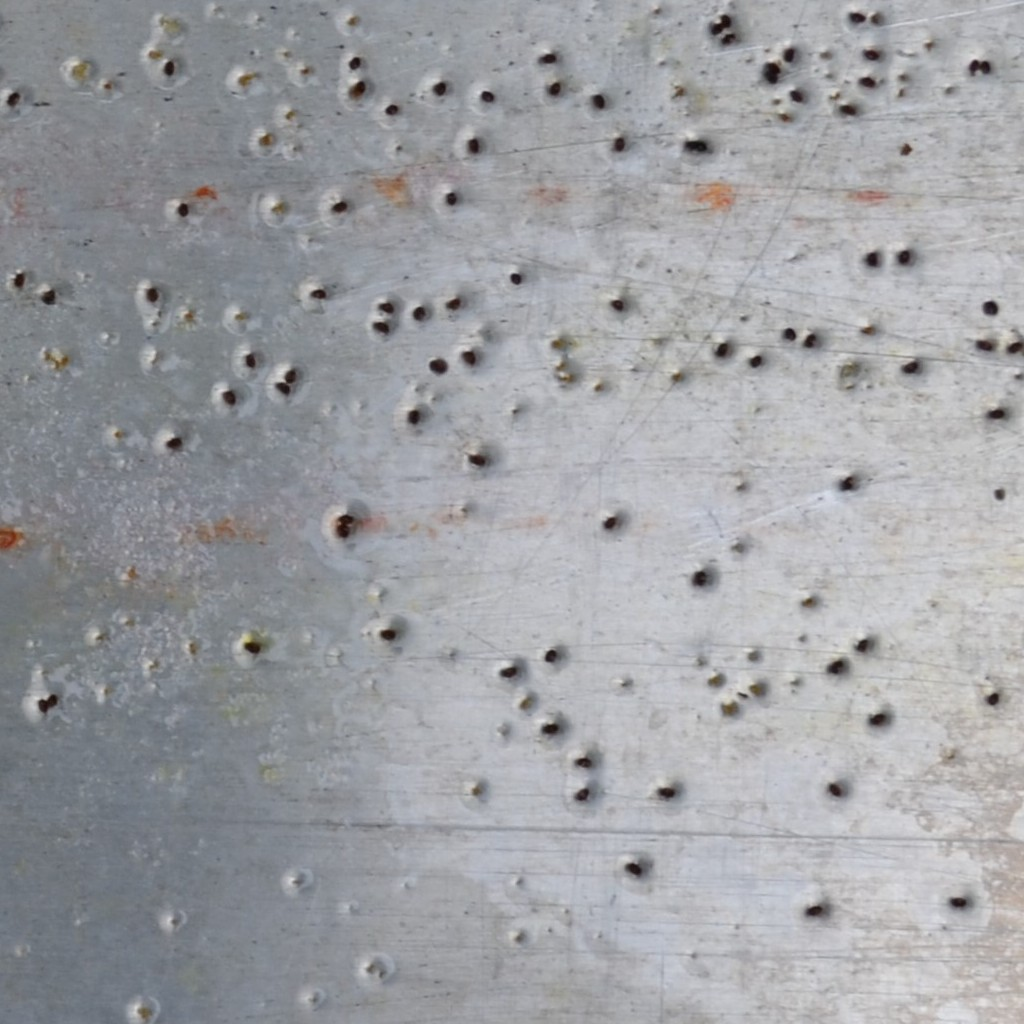varroa: (572, 782, 595, 811), (866, 706, 889, 732), (898, 355, 921, 379), (689, 567, 710, 593), (679, 137, 711, 154), (851, 633, 875, 655), (621, 858, 645, 879), (601, 510, 620, 536), (779, 44, 801, 66), (656, 783, 679, 804), (574, 749, 597, 770), (162, 430, 185, 451), (466, 449, 491, 468), (860, 43, 882, 64), (541, 720, 563, 741), (427, 357, 449, 378), (974, 335, 997, 355), (983, 402, 1006, 422), (240, 635, 263, 655), (802, 901, 828, 918), (786, 85, 807, 106), (980, 297, 1001, 318), (845, 6, 867, 26), (382, 99, 402, 121), (371, 317, 393, 337), (219, 385, 239, 407), (948, 894, 971, 913), (444, 292, 463, 315), (611, 133, 628, 158), (540, 646, 561, 666), (895, 246, 917, 265), (143, 282, 162, 304), (746, 352, 765, 374), (840, 470, 857, 494), (825, 780, 845, 800), (404, 407, 424, 427), (37, 287, 58, 306), (376, 297, 397, 316), (460, 346, 478, 368), (509, 266, 526, 289), (865, 246, 880, 272), (499, 661, 518, 681), (590, 92, 609, 112), (347, 75, 367, 94), (544, 77, 562, 98), (2, 89, 23, 107), (378, 626, 401, 642), (763, 67, 783, 85), (479, 86, 499, 104), (431, 78, 449, 98), (329, 197, 349, 215), (838, 101, 859, 118), (984, 689, 1003, 707), (538, 48, 557, 66), (274, 378, 292, 397), (608, 295, 627, 313), (345, 53, 362, 73), (443, 188, 459, 209), (335, 509, 357, 524), (174, 201, 191, 220), (413, 304, 430, 323), (307, 285, 327, 301), (714, 339, 730, 359), (856, 74, 877, 89), (466, 135, 483, 153), (335, 522, 352, 540), (708, 21, 727, 37), (979, 57, 994, 77), (763, 58, 783, 73), (11, 269, 26, 289), (243, 349, 258, 369), (161, 56, 175, 77), (719, 11, 735, 29), (782, 326, 798, 344), (45, 691, 60, 710), (36, 695, 49, 716), (1005, 340, 1023, 355), (284, 366, 299, 384), (825, 665, 844, 678), (967, 57, 981, 73), (832, 656, 847, 670), (804, 329, 819, 342), (802, 338, 818, 349)
